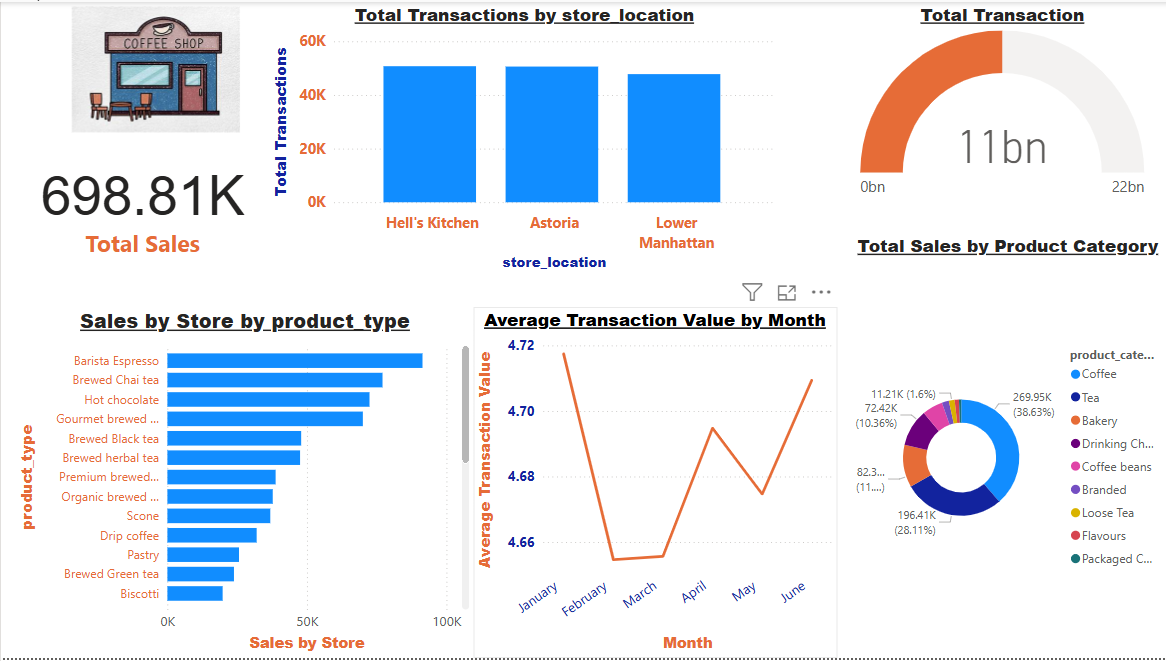

The dashboard page shown, as its layout file describes it:
{"tool":"powerbi","page":{"name":"Page 1","canvas":[1280,720],"ordinal":0},"visuals":[{"type":"card","fields":{"Values":["coffee-shop-sales-revenue.Total Sales"]},"box":[28.8,148.2,253.9,152.3],"z":0},{"type":"image","box":[28.8,0,282.7,148.2],"z":1000},{"type":"columnChart","title":"      Total Transactions by store_location","fields":{"Y":["coffee-shop-sales-revenue.Total Transactions"],"Category":["coffee-shop-sales-revenue.store_location"]},"box":[295.3,0,559.1,300.8],"z":1001},{"type":"barChart","fields":{"Category":["coffee-shop-sales-revenue.product_type"],"Y":["coffee-shop-sales-revenue.Sales by Store"]},"box":[16.5,335.2,502.8,384.6],"z":1002},{"type":"gauge","title":"Total Transaction","fields":{"Y":["Sum(coffee-shop-sales-revenue.transaction_id)"]},"box":[917.6,0,362.7,223.9],"z":1003},{"type":"lineChart","fields":{"Y":["coffee-shop-sales-revenue.Average Transaction Value"],"Category":["coffee-shop-sales-revenue.transaction_date.Variation.Date Hierarchy.Month"]},"box":[519.3,335.2,398.4,384.6],"z":1004},{"type":"donutChart","title":"Total Sales by Product Category","fields":{"Category":["coffee-shop-sales-revenue.product_category"],"Y":["coffee-shop-sales-revenue.Total Sales"]},"box":[917.6,223.9,362.7,495.9],"z":1005}]}

Visuals, with their boxes in screenshot pixels (x1, y1, x2, y2), scaled from the page's 1280x720 canvas onto the 1166x661 screenshot:
card - coffee-shop-sales-revenue.Total Sales: crop(26, 136, 258, 276)
image: crop(26, 0, 284, 136)
"      Total Transactions by store_location" columnChart: crop(269, 0, 778, 276)
barChart - coffee-shop-sales-revenue.product_type x coffee-shop-sales-revenue.Sales by Store: crop(15, 308, 473, 660)
"Total Transaction" gauge: crop(836, 0, 1165, 206)
lineChart - coffee-shop-sales-revenue.Average Transaction Value x coffee-shop-sales-revenue.transaction_date.Variation.Date Hierarchy.Month: crop(473, 308, 836, 660)
"Total Sales by Product Category" donutChart: crop(836, 206, 1165, 660)
